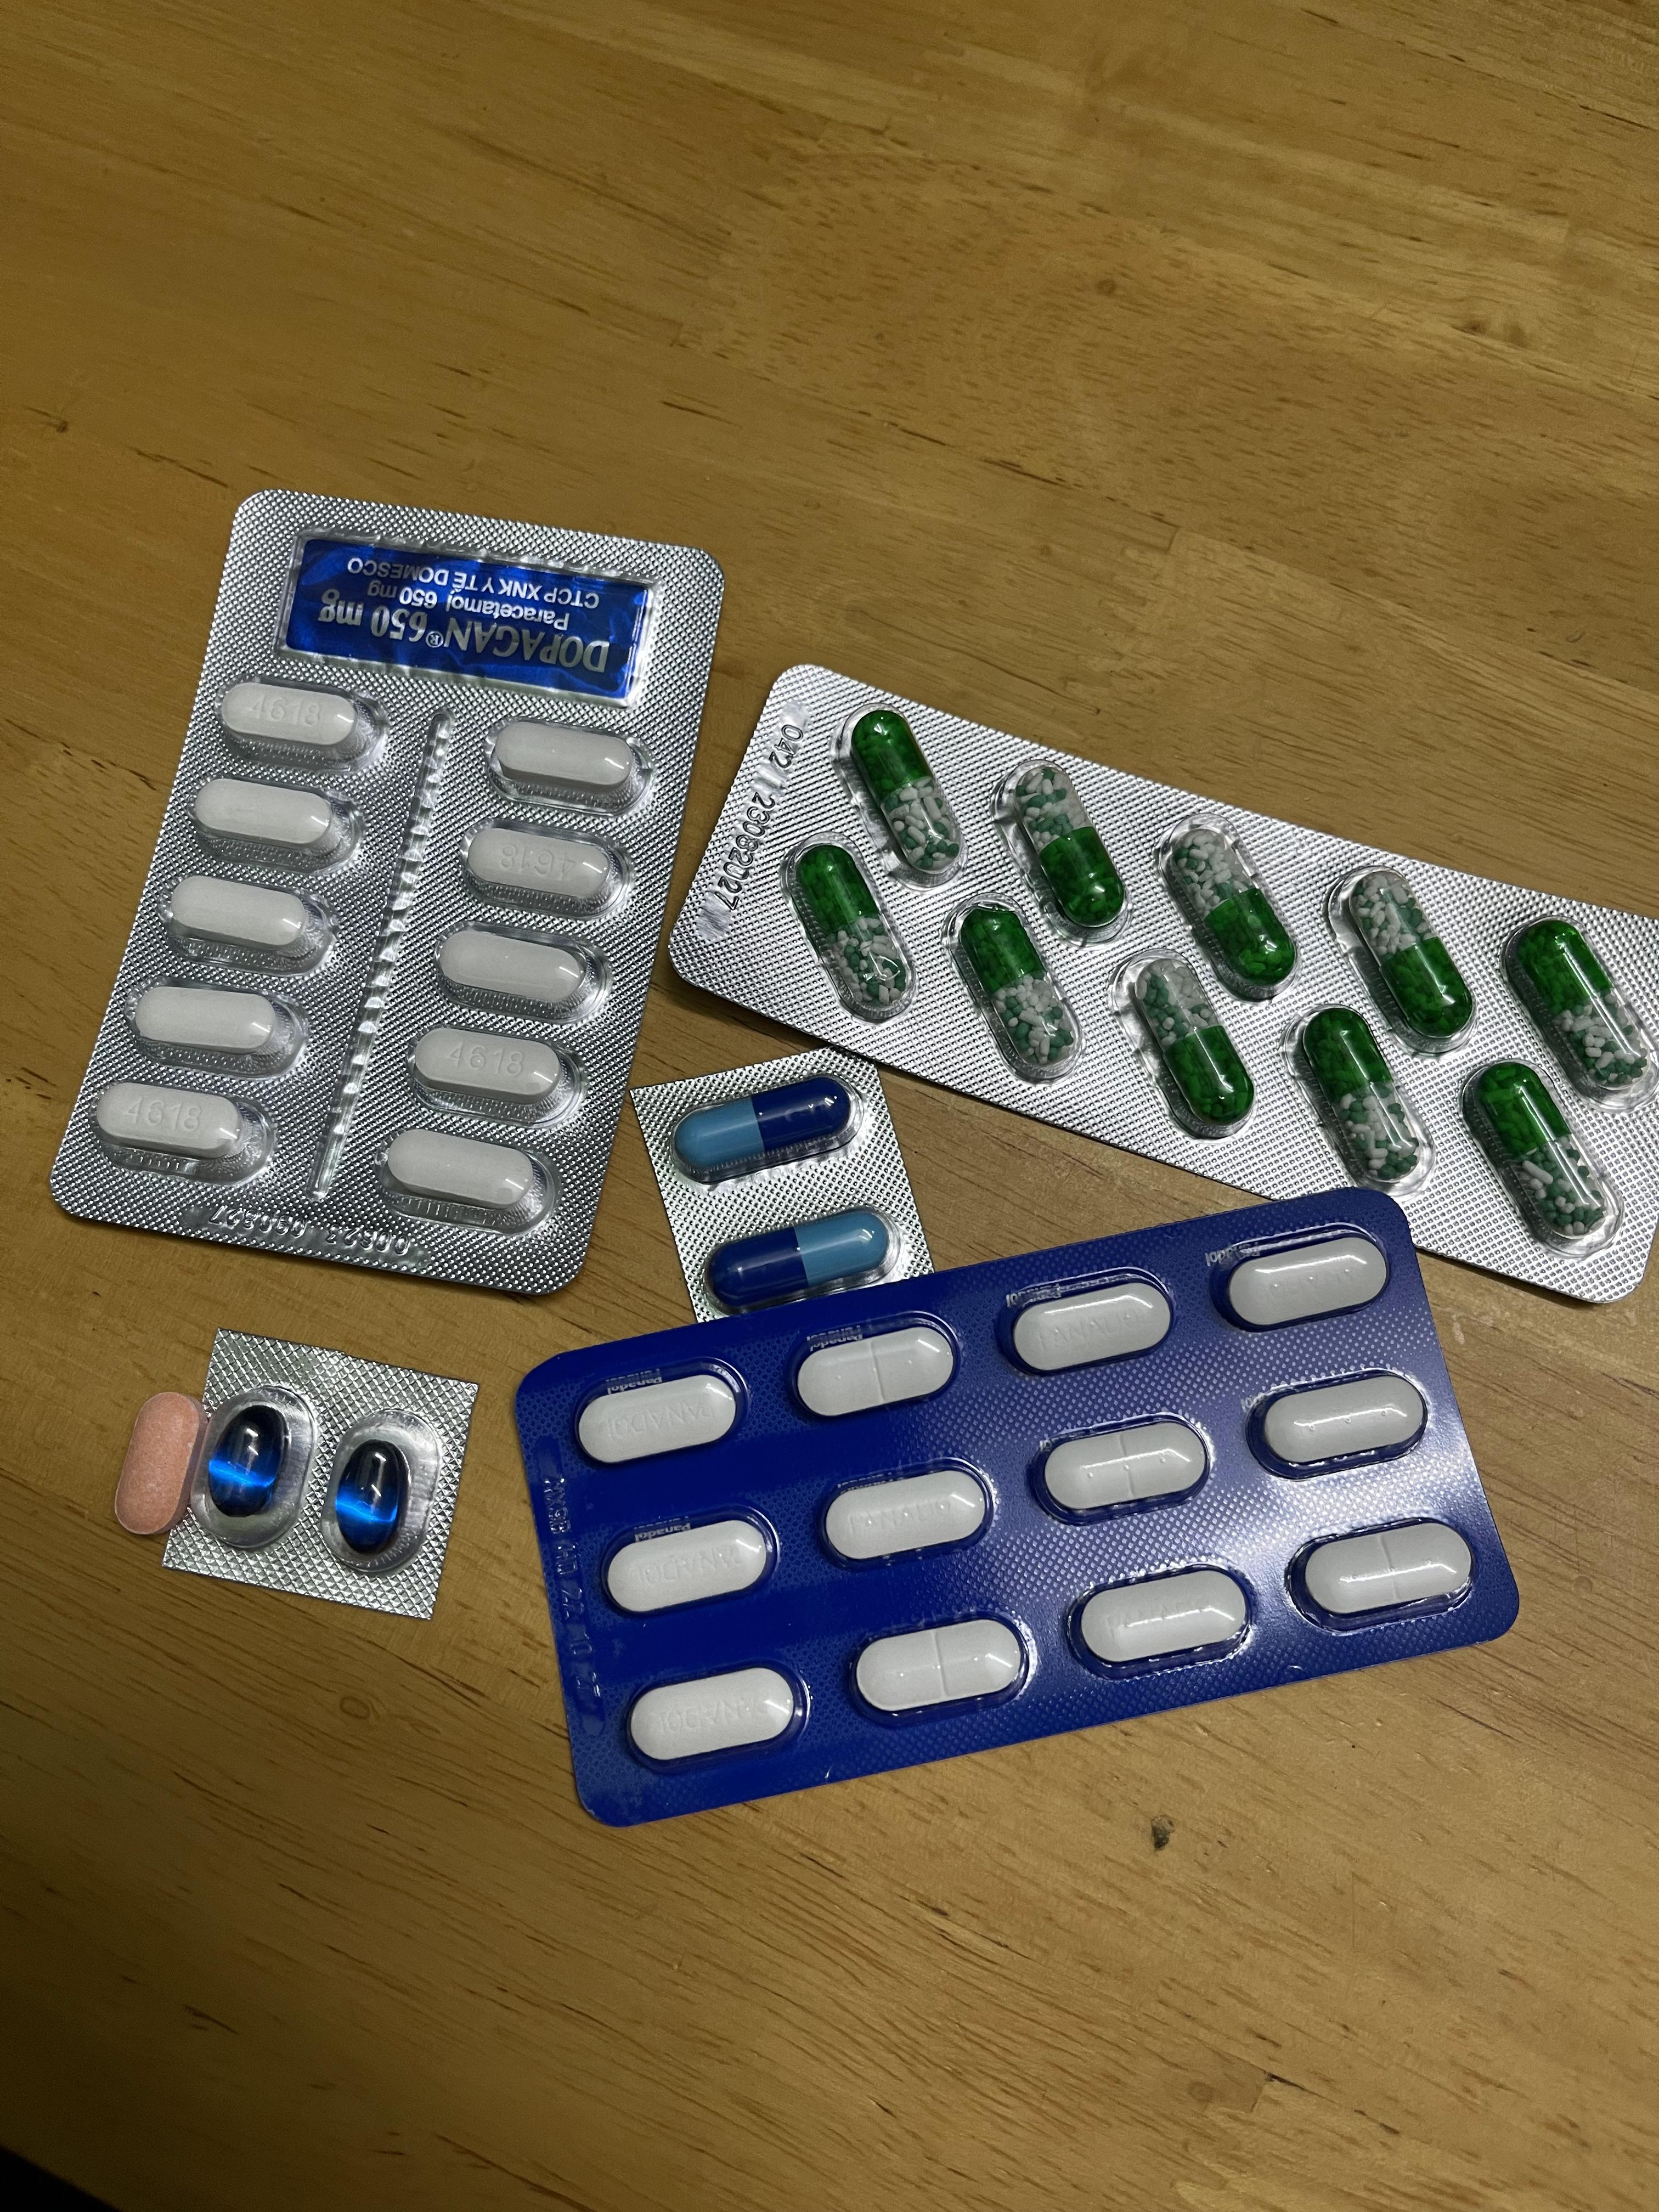Lincomyxin_500mg: (207, 1406, 289, 1512), (335, 1440, 410, 1550)
Loratadine_10mg: (113, 1392, 206, 1534)
Paracetamol_350mg: (849, 1613, 1033, 1719), (1290, 1519, 1476, 1623), (626, 1662, 803, 1768), (1249, 1371, 1429, 1475), (1073, 1566, 1251, 1669), (1032, 1416, 1209, 1519), (601, 1512, 777, 1615), (821, 1465, 993, 1566), (791, 1320, 957, 1418), (1002, 1278, 1173, 1372), (1218, 1233, 1389, 1327), (573, 1369, 741, 1463)
Paracetamol_500mg: (89, 1080, 267, 1176), (127, 981, 303, 1071), (378, 1129, 547, 1223), (457, 822, 627, 914), (484, 718, 652, 812), (404, 1024, 575, 1113), (434, 923, 599, 1014), (164, 873, 328, 963), (214, 679, 387, 763), (188, 779, 354, 860)
Paracetamol_650mg: (1500, 916, 1659, 1108), (1331, 864, 1480, 1050), (1112, 948, 1256, 1137), (1159, 817, 1298, 998), (1471, 1062, 1612, 1240), (999, 756, 1131, 942), (1297, 1008, 1425, 1184), (842, 707, 965, 883), (953, 900, 1075, 1075), (795, 845, 908, 1014)
pill: (673, 1073, 854, 1177), (706, 1207, 890, 1308)
